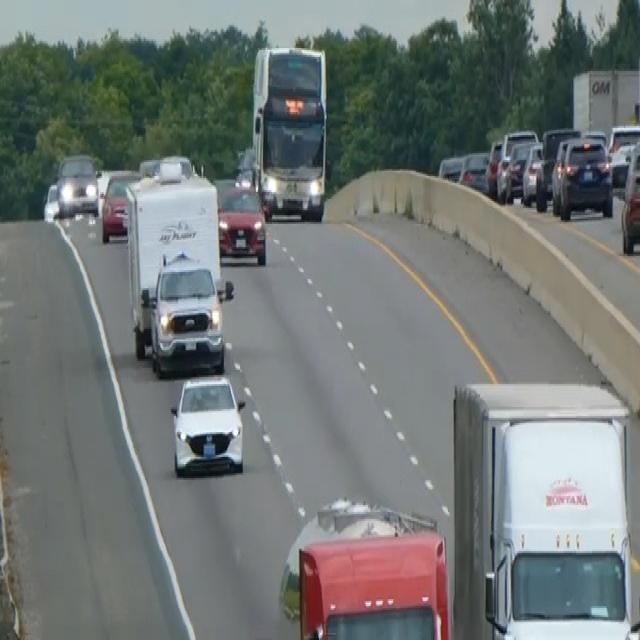bus: (250, 42, 328, 220)
car: (168, 370, 247, 478), (555, 135, 614, 221), (214, 178, 267, 265), (535, 126, 580, 208), (100, 167, 140, 242), (56, 151, 99, 217), (497, 135, 537, 201), (619, 139, 639, 254), (520, 140, 546, 207), (138, 151, 194, 180), (458, 149, 490, 192), (484, 137, 503, 195), (437, 151, 464, 181), (42, 180, 60, 222)
lorry: (278, 494, 451, 638)
truck: (124, 158, 234, 375)
